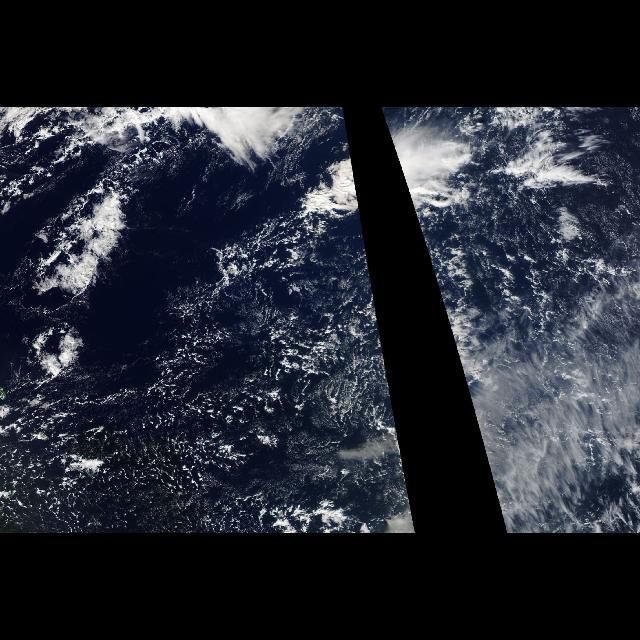Fish: (234, 130, 364, 222), (382, 130, 510, 222)
Gravel: (5, 222, 399, 530)
